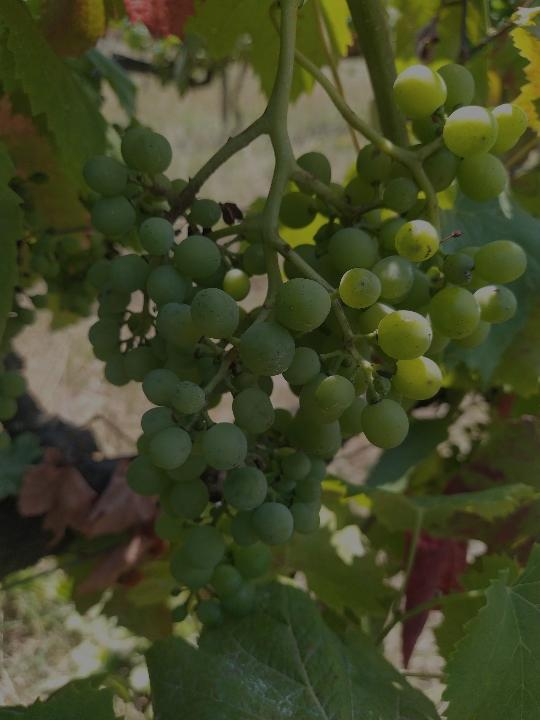grape: (85, 63, 531, 631)
